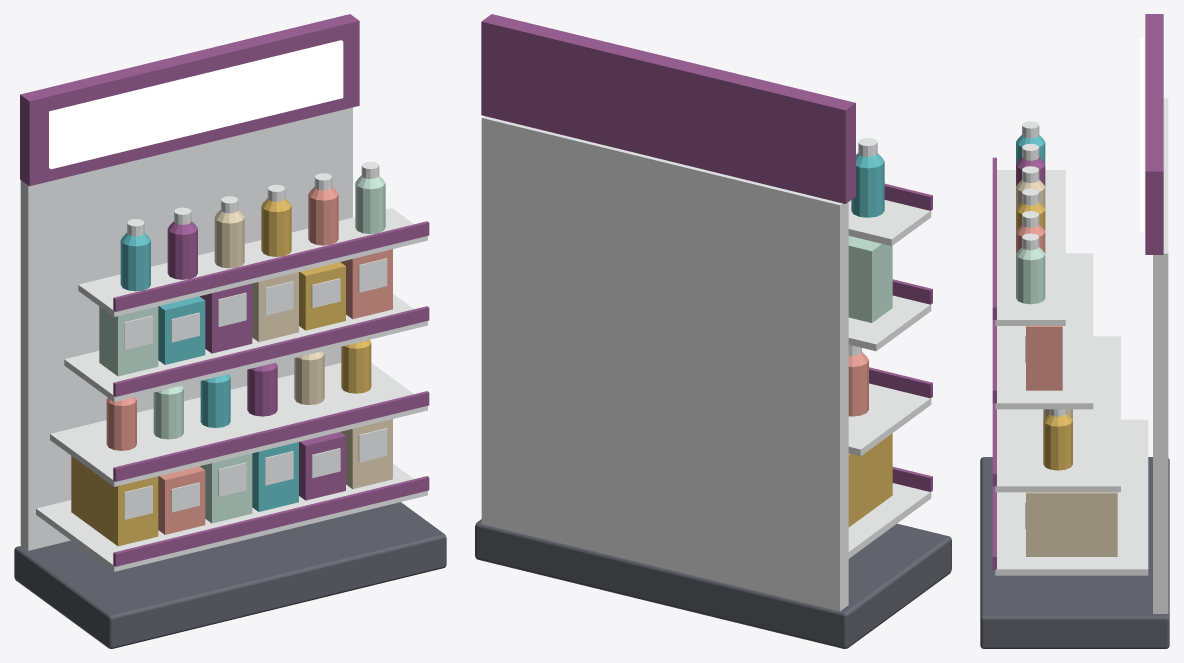
File: pharmacy-and-high-street-chemist-gondola-end-cap-displ-41b8f952__37509.glb
3 views of the same model, side by side, from view 1: azimuth 30°, elevation 25°; view 2: azimuth 150°, elevation 25°; view 3: azimuth 270°, elevation 25° (orthographic). The views are drawn at different scales.
Parts seen in each view (by area): view 1: gondola-end-cap-display; view 2: gondola-end-cap-display; view 3: gondola-end-cap-display.
Boxes of the visible parts, <box> form: gondola-end-cap-display: <box>14,14,446,648</box>; gondola-end-cap-display: <box>475,14,951,648</box>; gondola-end-cap-display: <box>980,14,1169,648</box>.
Bounding box in the file's own units: 1.25 × 1.72 × 0.62.
